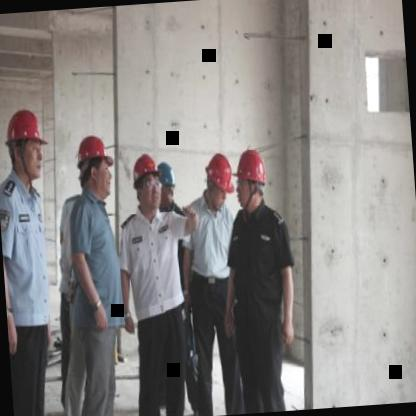helmet: (2, 105, 48, 184), (232, 146, 272, 217), (74, 133, 116, 200), (128, 147, 163, 212), (202, 151, 236, 208), (156, 159, 180, 210)
